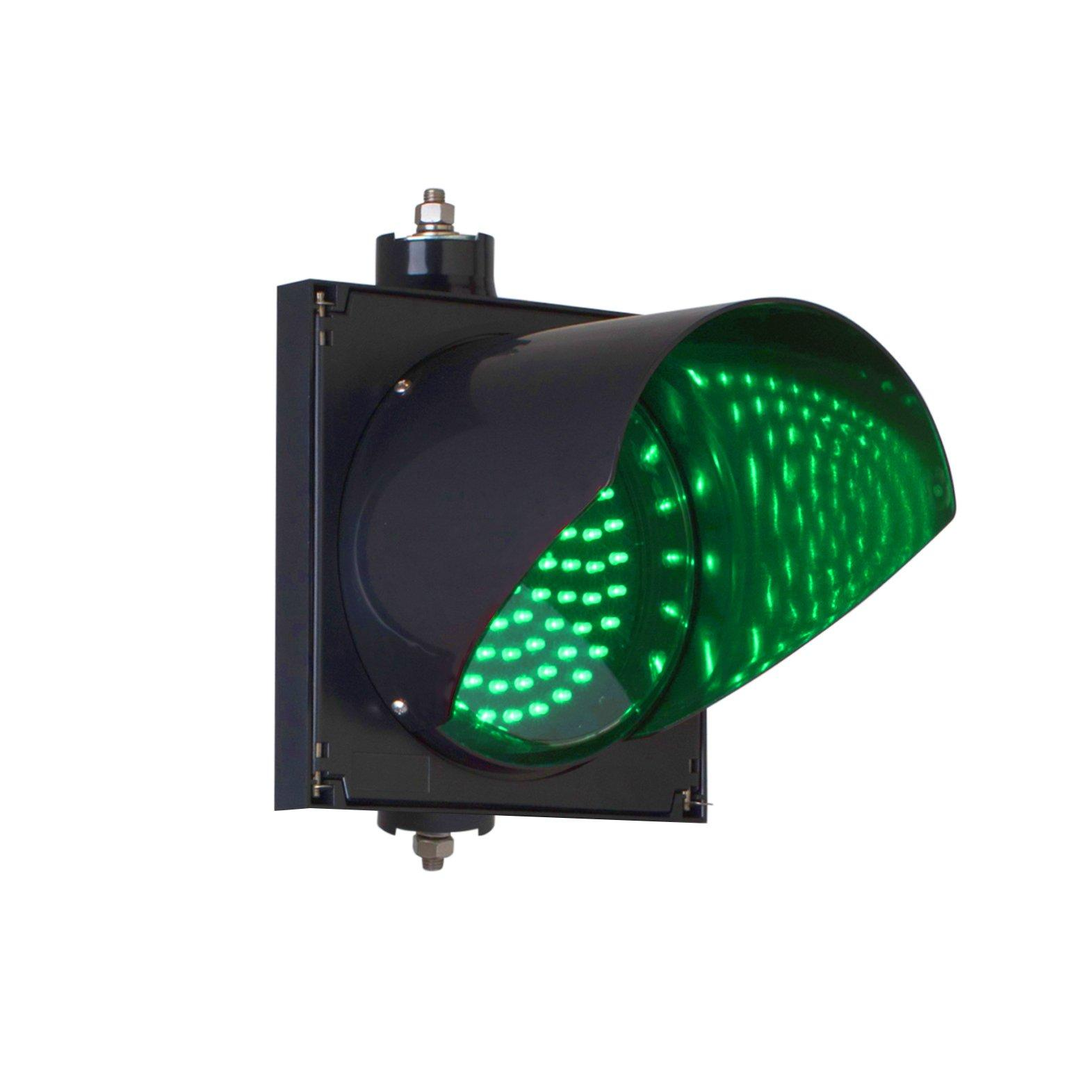Traffic light green: (276, 262, 985, 883)
